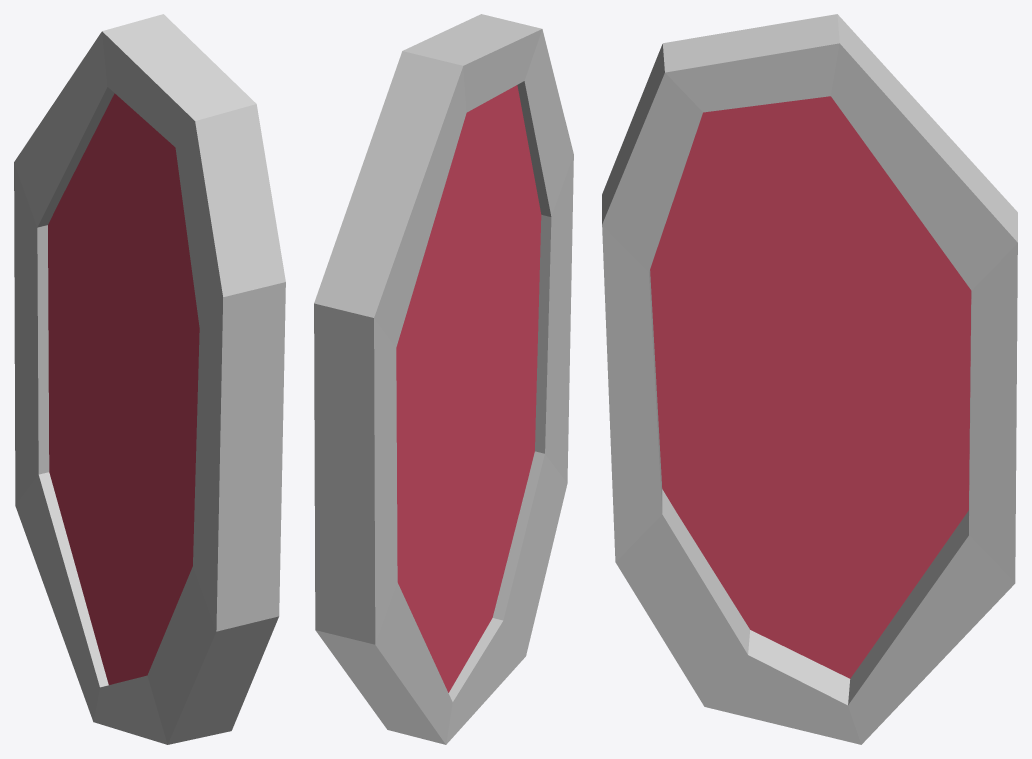
Rendered from MS_Frame7.fbx.
3 views of the same model, side by side, from view 1: azimuth 30°, elevation 25°; view 2: azimuth 150°, elevation 25°; view 3: azimuth 270°, elevation 25° (orthographic). The views are drawn at different scales.
Parts seen in each view (by area): view 1: Plane.006; view 2: Plane.006; view 3: Plane.006.
Boxes of the visible parts, left/top/right/bottom form: Plane.006: left=14, top=14, right=285, bottom=744; Plane.006: left=314, top=14, right=573, bottom=744; Plane.006: left=602, top=14, right=1017, bottom=744.
Size of the model in its own units: 3.92 by 38.81 by 20.92.
